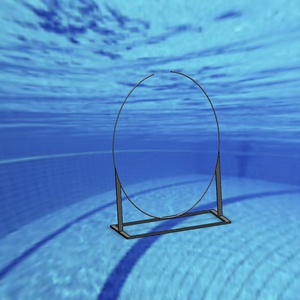circle: (109, 69, 231, 241)
